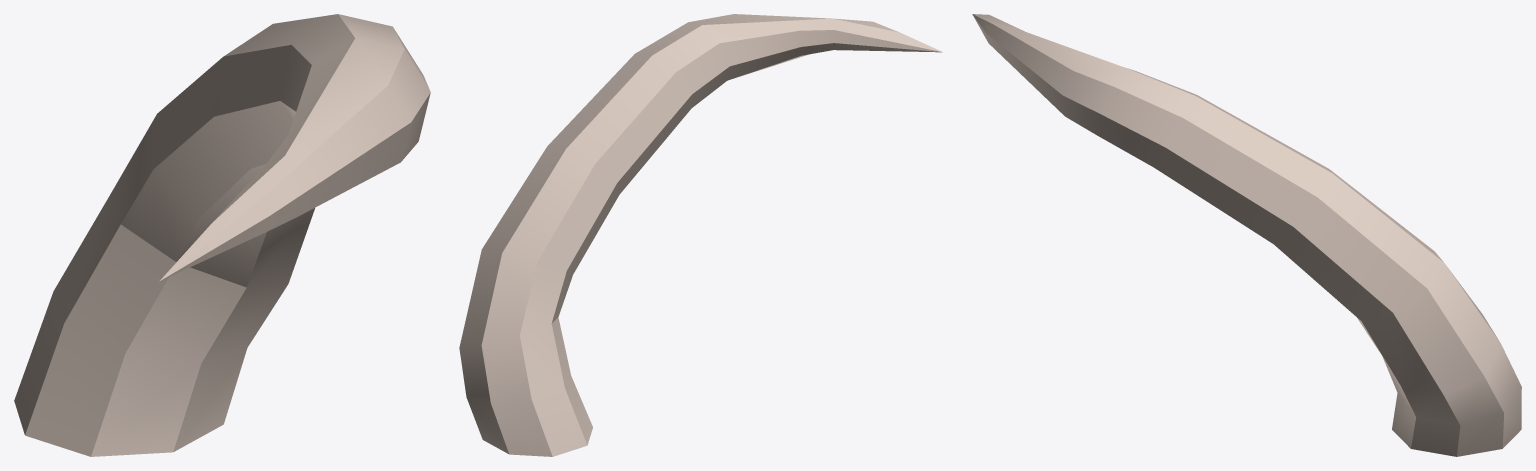
The model's file is animals-bullhorn-028.glb.
3 renders of one model, left to right at view 1: azimuth 30°, elevation 25°; view 2: azimuth 150°, elevation 25°; view 3: azimuth 270°, elevation 25°, orthographic. The views are drawn at different scales.
Parts seen in each view (by area): view 1: Geo_BullHorn; view 2: Geo_BullHorn; view 3: Geo_BullHorn.
Part boxes in pixels (<box>): Geo_BullHorn: <box>14,14,430,456</box>; Geo_BullHorn: <box>459,14,942,456</box>; Geo_BullHorn: <box>972,14,1521,456</box>.
Size of the model in its own units: 24.07 by 26.19 by 37.33.
